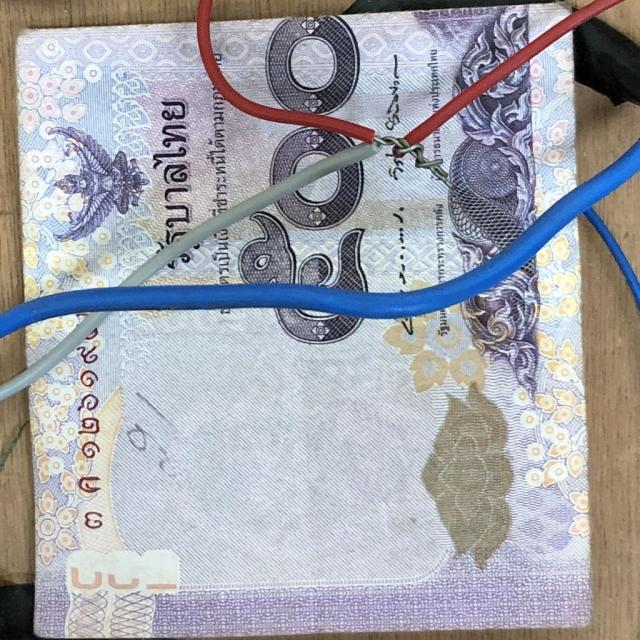THAI500: (29, 222, 590, 638), (148, 36, 576, 292), (17, 24, 359, 299), (212, 4, 569, 136)
